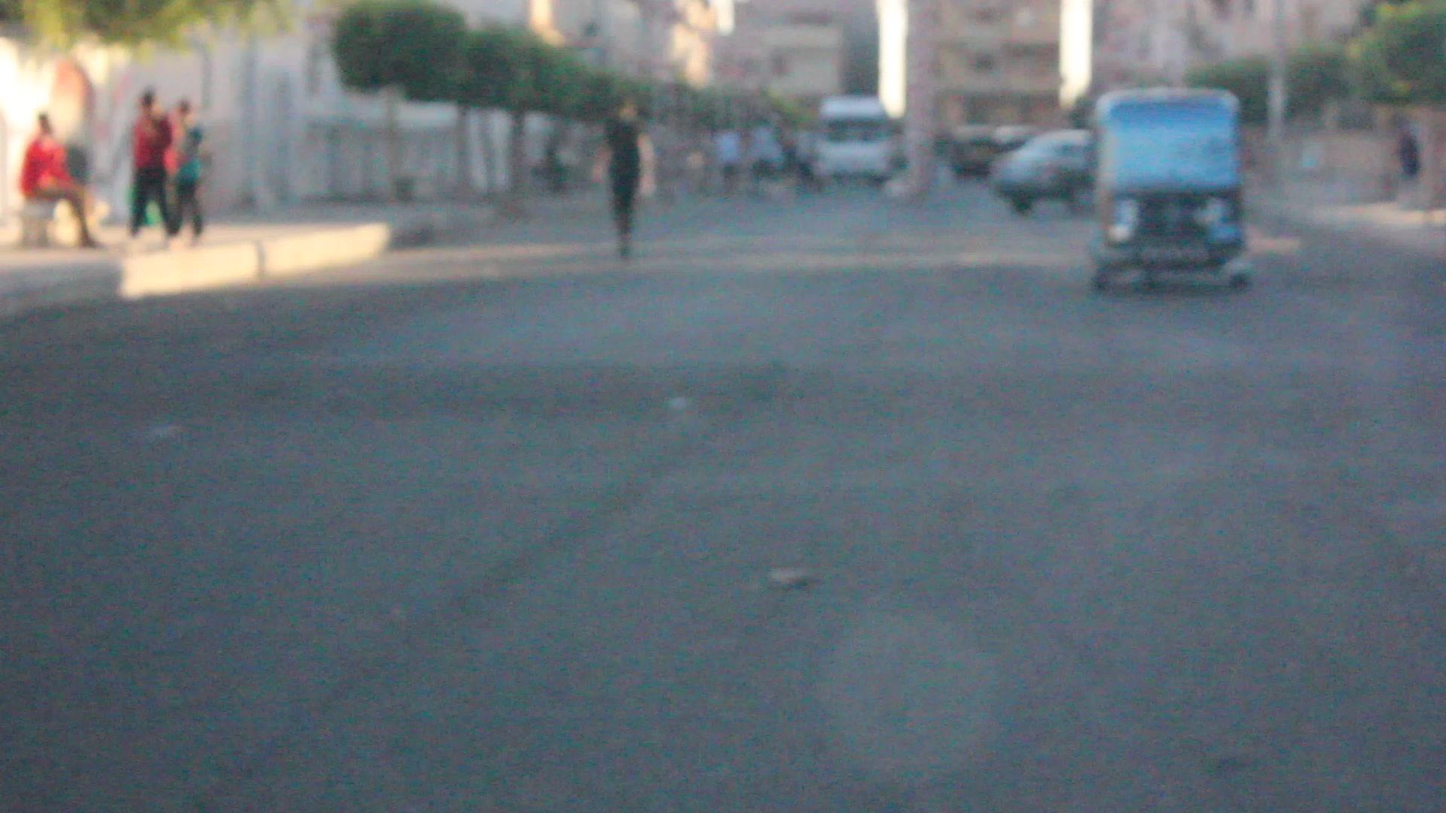Bump: (0, 333, 1446, 431)
